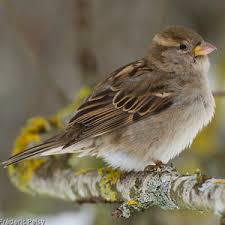hsparrow: (1, 19, 222, 185)
